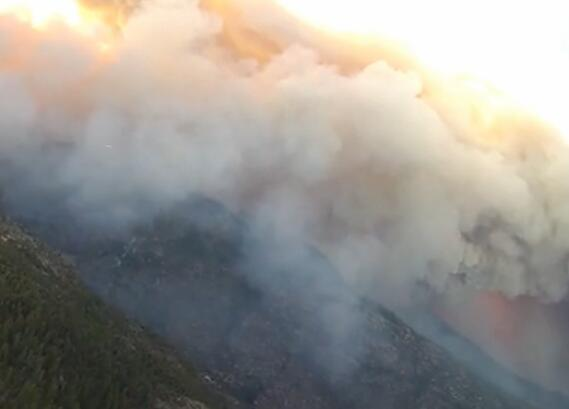yanwu: (0, 1, 566, 403)
